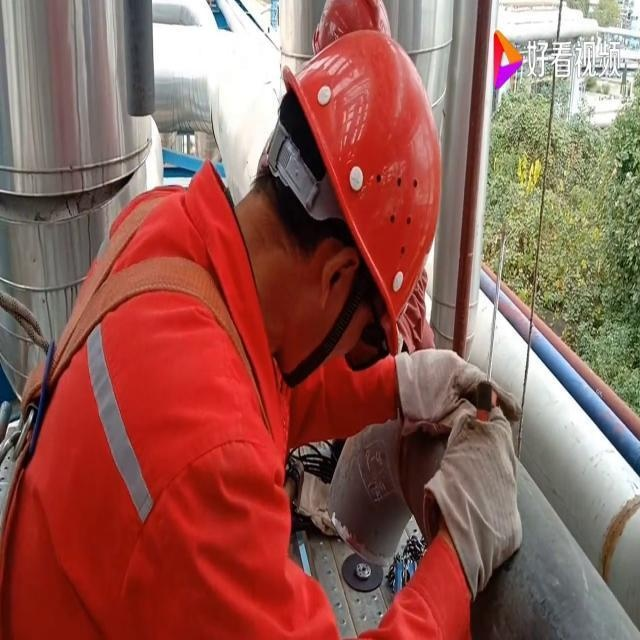Arnes_seguridad: (0, 164, 286, 566)
